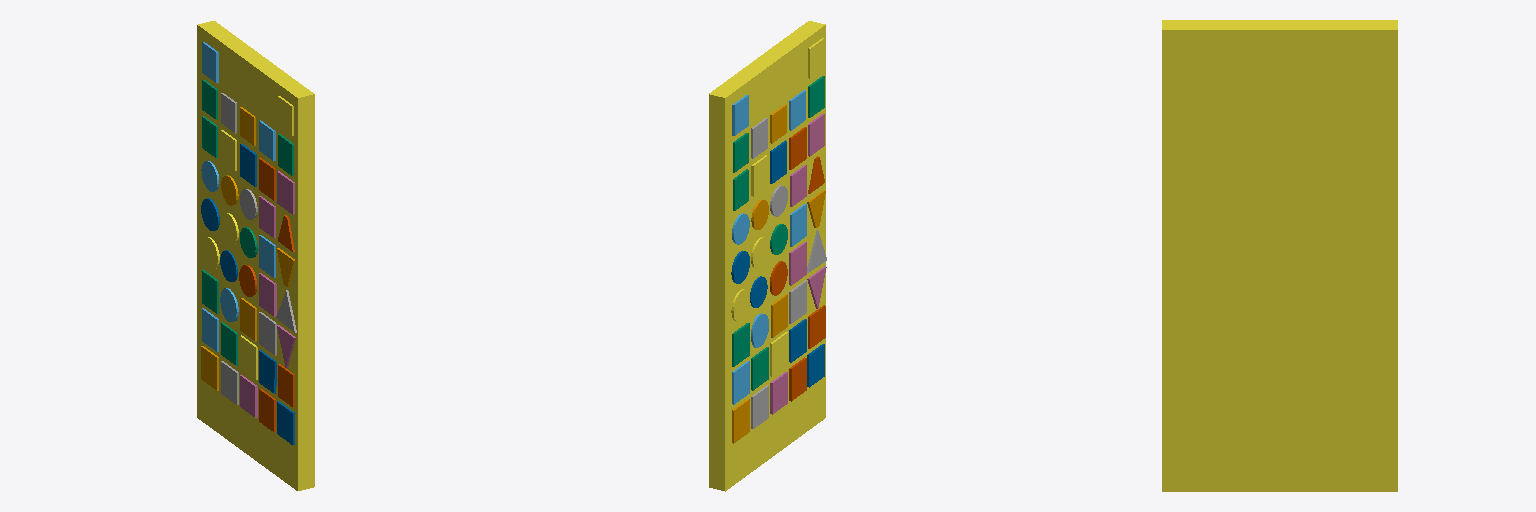
--- Render facts (derived) ---
3 views of the same robot in one strip: view 1: azimuth 30°, elevation 25°; view 2: azimuth 150°, elevation 25°; view 3: azimuth 270°, elevation 25° (orthographic).
Robot: partnet_2c6493d31849c15a75f1efca97bee05a — 44 links, 43 joints (42 prismatic, 1 fixed); root link base; default pose: all joints at 0.
Visible links, largest first — view 1: link_42, link_7, link_10, link_21, link_6, link_3, link_14, link_37, link_11, link_5, link_17, link_4 (+12 smaller); view 2: link_42, link_10, link_7, link_17, link_4, link_21, link_11, link_6, link_8, link_12, link_3, link_9 (+14 smaller); view 3: link_42.
Link boxes in pixels (bbox=[...]): link_42: bbox=[197, 21, 314, 490]; link_7: bbox=[201, 346, 218, 390]; link_10: bbox=[240, 335, 257, 379]; link_21: bbox=[259, 273, 276, 316]; link_6: bbox=[221, 361, 238, 404]; link_3: bbox=[277, 401, 294, 444]; link_14: bbox=[259, 312, 276, 355]; link_37: bbox=[277, 171, 294, 214]; link_11: bbox=[259, 350, 276, 393]; link_5: bbox=[240, 375, 257, 417]; link_17: bbox=[202, 270, 218, 313]; link_4: bbox=[259, 389, 275, 432]; link_42: bbox=[709, 21, 825, 491]; link_10: bbox=[770, 332, 787, 376]; link_7: bbox=[732, 399, 749, 443]; link_17: bbox=[732, 323, 749, 366]; link_4: bbox=[789, 357, 806, 401]; link_21: bbox=[789, 242, 806, 285]; link_11: bbox=[789, 319, 806, 362]; link_6: bbox=[751, 385, 768, 428]; link_8: bbox=[732, 361, 749, 404]; link_12: bbox=[808, 305, 825, 348]; link_3: bbox=[807, 344, 824, 387]; link_9: bbox=[751, 347, 768, 390]; link_42: bbox=[1162, 20, 1397, 491].
Bounding box of the posed robot: 0.0924 × 0.8421 × 1.82 m (x, y, z).
88 mesh visuals loaded from 88 distinct referenced files (88 OBJ).

The robot description file, URDF, robot "partnet_2c6493d31849c15a75f1efca97bee05a":
<?xml version="1.0" ?>
<robot name="partnet_2c6493d31849c15a75f1efca97bee05a">
	<link name="base"/>
	<link name="link_0">
		<visual name="button-1">
			<origin xyz="-0.050816255718397985 -0.2735397896986227 -0.04700700000000024"/>
			<geometry>
				<mesh filename="textured_objs/original-21.obj"/>
			</geometry>
		</visual>
		<visual name="button-1">
			<origin xyz="-0.050816255718397985 -0.2735397896986227 -0.04700700000000024"/>
			<geometry>
				<mesh filename="textured_objs/original-63.obj"/>
			</geometry>
		</visual>
		<collision>
			<origin xyz="-0.050816255718397985 -0.2735397896986227 -0.04700700000000024"/>
			<geometry>
				<mesh filename="textured_objs/original-21.obj"/>
			</geometry>
		</collision>
		<collision>
			<origin xyz="-0.050816255718397985 -0.2735397896986227 -0.04700700000000024"/>
			<geometry>
				<mesh filename="textured_objs/original-63.obj"/>
			</geometry>
		</collision>
	</link>
	<joint name="joint_0" type="prismatic">
		<origin xyz="0.050816255718397985 0.2735397896986227 0.04700700000000024"/>
		<axis xyz="0 0 -1"/>
		<child link="link_0"/>
		<parent link="link_42"/>
		<limit lower="0" upper="0.005"/>
	</joint>
	<link name="link_1">
		<visual name="button-2">
			<origin xyz="-0.050816255718397985 -0.2735397896986227 -0.04700700000000024"/>
			<geometry>
				<mesh filename="textured_objs/original-30.obj"/>
			</geometry>
		</visual>
		<visual name="button-2">
			<origin xyz="-0.050816255718397985 -0.2735397896986227 -0.04700700000000024"/>
			<geometry>
				<mesh filename="textured_objs/original-72.obj"/>
			</geometry>
		</visual>
		<collision>
			<origin xyz="-0.050816255718397985 -0.2735397896986227 -0.04700700000000024"/>
			<geometry>
				<mesh filename="textured_objs/original-30.obj"/>
			</geometry>
		</collision>
		<collision>
			<origin xyz="-0.050816255718397985 -0.2735397896986227 -0.04700700000000024"/>
			<geometry>
				<mesh filename="textured_objs/original-72.obj"/>
			</geometry>
		</collision>
	</link>
	<joint name="joint_1" type="prismatic">
		<origin xyz="0.050816255718397985 0.2735397896986227 0.04700700000000024"/>
		<axis xyz="0 0 -1"/>
		<child link="link_1"/>
		<parent link="link_42"/>
		<limit lower="0" upper="0.005"/>
	</joint>
	<link name="link_2">
		<visual name="button-3">
			<origin xyz="-0.050816255718397985 -0.2735397896986227 -0.04700700000000024"/>
			<geometry>
				<mesh filename="textured_objs/original-15.obj"/>
			</geometry>
		</visual>
		<visual name="button-3">
			<origin xyz="-0.050816255718397985 -0.2735397896986227 -0.04700700000000024"/>
			<geometry>
				<mesh filename="textured_objs/original-57.obj"/>
			</geometry>
		</visual>
		<collision>
			<origin xyz="-0.050816255718397985 -0.2735397896986227 -0.04700700000000024"/>
			<geometry>
				<mesh filename="textured_objs/original-15.obj"/>
			</geometry>
		</collision>
		<collision>
			<origin xyz="-0.050816255718397985 -0.2735397896986227 -0.04700700000000024"/>
			<geometry>
				<mesh filename="textured_objs/original-57.obj"/>
			</geometry>
		</collision>
	</link>
	<joint name="joint_2" type="prismatic">
		<origin xyz="0.050816255718397985 0.2735397896986227 0.04700700000000024"/>
		<axis xyz="0 0 -1"/>
		<child link="link_2"/>
		<parent link="link_42"/>
		<limit lower="0" upper="0.005"/>
	</joint>
	<link name="link_3">
		<visual name="button-4">
			<origin xyz="-0.050816255718397985 -0.2735397896986227 -0.04700700000000024"/>
			<geometry>
				<mesh filename="textured_objs/original-33.obj"/>
			</geometry>
		</visual>
		<visual name="button-4">
			<origin xyz="-0.050816255718397985 -0.2735397896986227 -0.04700700000000024"/>
			<geometry>
				<mesh filename="textured_objs/original-75.obj"/>
			</geometry>
		</visual>
		<collision>
			<origin xyz="-0.050816255718397985 -0.2735397896986227 -0.04700700000000024"/>
			<geometry>
				<mesh filename="textured_objs/original-33.obj"/>
			</geometry>
		</collision>
		<collision>
			<origin xyz="-0.050816255718397985 -0.2735397896986227 -0.04700700000000024"/>
			<geometry>
				<mesh filename="textured_objs/original-75.obj"/>
			</geometry>
		</collision>
	</link>
	<joint name="joint_3" type="prismatic">
		<origin xyz="0.050816255718397985 0.2735397896986227 0.04700700000000024"/>
		<axis xyz="0 0 -1"/>
		<child link="link_3"/>
		<parent link="link_42"/>
		<limit lower="0" upper="0.005"/>
	</joint>
	<link name="link_4">
		<visual name="button-5">
			<origin xyz="-0.050816255718397985 -0.2735397896986227 -0.04700700000000024"/>
			<geometry>
				<mesh filename="textured_objs/original-34.obj"/>
			</geometry>
		</visual>
		<visual name="button-5">
			<origin xyz="-0.050816255718397985 -0.2735397896986227 -0.04700700000000024"/>
			<geometry>
				<mesh filename="textured_objs/original-76.obj"/>
			</geometry>
		</visual>
		<collision>
			<origin xyz="-0.050816255718397985 -0.2735397896986227 -0.04700700000000024"/>
			<geometry>
				<mesh filename="textured_objs/original-34.obj"/>
			</geometry>
		</collision>
		<collision>
			<origin xyz="-0.050816255718397985 -0.2735397896986227 -0.04700700000000024"/>
			<geometry>
				<mesh filename="textured_objs/original-76.obj"/>
			</geometry>
		</collision>
	</link>
	<joint name="joint_4" type="prismatic">
		<origin xyz="0.050816255718397985 0.2735397896986227 0.04700700000000024"/>
		<axis xyz="0 0 -1"/>
		<child link="link_4"/>
		<parent link="link_42"/>
		<limit lower="0" upper="0.005"/>
	</joint>
	<link name="link_5">
		<visual name="button-6">
			<origin xyz="-0.050816255718397985 -0.2735397896986227 -0.04700700000000024"/>
			<geometry>
				<mesh filename="textured_objs/original-42.obj"/>
			</geometry>
		</visual>
		<visual name="button-6">
			<origin xyz="-0.050816255718397985 -0.2735397896986227 -0.04700700000000024"/>
			<geometry>
				<mesh filename="textured_objs/original-83.obj"/>
			</geometry>
		</visual>
		<collision>
			<origin xyz="-0.050816255718397985 -0.2735397896986227 -0.04700700000000024"/>
			<geometry>
				<mesh filename="textured_objs/original-42.obj"/>
			</geometry>
		</collision>
		<collision>
			<origin xyz="-0.050816255718397985 -0.2735397896986227 -0.04700700000000024"/>
			<geometry>
				<mesh filename="textured_objs/original-83.obj"/>
			</geometry>
		</collision>
	</link>
	<joint name="joint_5" type="prismatic">
		<origin xyz="0.050816255718397985 0.2735397896986227 0.04700700000000024"/>
		<axis xyz="0 0 -1"/>
		<child link="link_5"/>
		<parent link="link_42"/>
		<limit lower="0" upper="0.005"/>
	</joint>
	<link name="link_6">
		<visual name="button-7">
			<origin xyz="-0.050816255718397985 -0.2735397896986227 -0.04700700000000024"/>
			<geometry>
				<mesh filename="textured_objs/original-39.obj"/>
			</geometry>
		</visual>
		<visual name="button-7">
			<origin xyz="-0.050816255718397985 -0.2735397896986227 -0.04700700000000024"/>
			<geometry>
				<mesh filename="textured_objs/original-80.obj"/>
			</geometry>
		</visual>
		<collision>
			<origin xyz="-0.050816255718397985 -0.2735397896986227 -0.04700700000000024"/>
			<geometry>
				<mesh filename="textured_objs/original-39.obj"/>
			</geometry>
		</collision>
		<collision>
			<origin xyz="-0.050816255718397985 -0.2735397896986227 -0.04700700000000024"/>
			<geometry>
				<mesh filename="textured_objs/original-80.obj"/>
			</geometry>
		</collision>
	</link>
	<joint name="joint_6" type="prismatic">
		<origin xyz="0.050816255718397985 0.2735397896986227 0.04700700000000024"/>
		<axis xyz="0 0 -1"/>
		<child link="link_6"/>
		<parent link="link_42"/>
		<limit lower="0" upper="0.005"/>
	</joint>
	<link name="link_7">
		<visual name="button-8">
			<origin xyz="-0.050816255718397985 -0.2735397896986227 -0.04700700000000024"/>
			<geometry>
				<mesh filename="textured_objs/original-29.obj"/>
			</geometry>
		</visual>
		<visual name="button-8">
			<origin xyz="-0.050816255718397985 -0.2735397896986227 -0.04700700000000024"/>
			<geometry>
				<mesh filename="textured_objs/original-71.obj"/>
			</geometry>
		</visual>
		<collision>
			<origin xyz="-0.050816255718397985 -0.2735397896986227 -0.04700700000000024"/>
			<geometry>
				<mesh filename="textured_objs/original-29.obj"/>
			</geometry>
		</collision>
		<collision>
			<origin xyz="-0.050816255718397985 -0.2735397896986227 -0.04700700000000024"/>
			<geometry>
				<mesh filename="textured_objs/original-71.obj"/>
			</geometry>
		</collision>
	</link>
	<joint name="joint_7" type="prismatic">
		<origin xyz="0.050816255718397985 0.2735397896986227 0.04700700000000024"/>
		<axis xyz="0 0 -1"/>
		<child link="link_7"/>
		<parent link="link_42"/>
		<limit lower="0" upper="0.005"/>
	</joint>
	<link name="link_8">
		<visual name="button-9">
			<origin xyz="-0.050816255718397985 -0.2735397896986227 -0.04700700000000024"/>
			<geometry>
				<mesh filename="textured_objs/original-40.obj"/>
			</geometry>
		</visual>
		<visual name="button-9">
			<origin xyz="-0.050816255718397985 -0.2735397896986227 -0.04700700000000024"/>
			<geometry>
				<mesh filename="textured_objs/original-81.obj"/>
			</geometry>
		</visual>
		<collision>
			<origin xyz="-0.050816255718397985 -0.2735397896986227 -0.04700700000000024"/>
			<geometry>
				<mesh filename="textured_objs/original-40.obj"/>
			</geometry>
		</collision>
		<collision>
			<origin xyz="-0.050816255718397985 -0.2735397896986227 -0.04700700000000024"/>
			<geometry>
				<mesh filename="textured_objs/original-81.obj"/>
			</geometry>
		</collision>
	</link>
	<joint name="joint_8" type="prismatic">
		<origin xyz="0.050816255718397985 0.2735397896986227 0.04700700000000024"/>
		<axis xyz="0 0 -1"/>
		<child link="link_8"/>
		<parent link="link_42"/>
		<limit lower="0" upper="0.005"/>
	</joint>
	<link name="link_9">
		<visual name="button-10">
			<origin xyz="-0.050816255718397985 -0.2735397896986227 -0.04700700000000024"/>
			<geometry>
				<mesh filename="textured_objs/original-43.obj"/>
			</geometry>
		</visual>
		<visual name="button-10">
			<origin xyz="-0.050816255718397985 -0.2735397896986227 -0.04700700000000024"/>
			<geometry>
				<mesh filename="textured_objs/original-85.obj"/>
			</geometry>
		</visual>
		<collision>
			<origin xyz="-0.050816255718397985 -0.2735397896986227 -0.04700700000000024"/>
			<geometry>
				<mesh filename="textured_objs/original-43.obj"/>
			</geometry>
		</collision>
		<collision>
			<origin xyz="-0.050816255718397985 -0.2735397896986227 -0.04700700000000024"/>
			<geometry>
				<mesh filename="textured_objs/original-85.obj"/>
			</geometry>
		</collision>
	</link>
	<joint name="joint_9" type="prismatic">
		<origin xyz="0.050816255718397985 0.2735397896986227 0.04700700000000024"/>
		<axis xyz="0 0 -1"/>
		<child link="link_9"/>
		<parent link="link_42"/>
		<limit lower="0" upper="0.005"/>
	</joint>
	<link name="link_10">
		<visual name="button-11">
			<origin xyz="-0.050816255718397985 -0.2735397896986227 -0.04700700000000024"/>
			<geometry>
				<mesh filename="textured_objs/original-32.obj"/>
			</geometry>
		</visual>
		<visual name="button-11">
			<origin xyz="-0.050816255718397985 -0.2735397896986227 -0.04700700000000024"/>
			<geometry>
				<mesh filename="textured_objs/original-74.obj"/>
			</geometry>
		</visual>
		<collision>
			<origin xyz="-0.050816255718397985 -0.2735397896986227 -0.04700700000000024"/>
			<geometry>
				<mesh filename="textured_objs/original-32.obj"/>
			</geometry>
		</collision>
		<collision>
			<origin xyz="-0.050816255718397985 -0.2735397896986227 -0.04700700000000024"/>
			<geometry>
				<mesh filename="textured_objs/original-74.obj"/>
			</geometry>
		</collision>
	</link>
	<joint name="joint_10" type="prismatic">
		<origin xyz="0.050816255718397985 0.2735397896986227 0.04700700000000024"/>
		<axis xyz="0 0 -1"/>
		<child link="link_10"/>
		<parent link="link_42"/>
		<limit lower="0" upper="0.005"/>
	</joint>
	<link name="link_11">
		<visual name="button-12">
			<origin xyz="-0.050816255718397985 -0.2735397896986227 -0.04700700000000024"/>
			<geometry>
				<mesh filename="textured_objs/original-38.obj"/>
			</geometry>
		</visual>
		<visual name="button-12">
			<origin xyz="-0.050816255718397985 -0.2735397896986227 -0.04700700000000024"/>
			<geometry>
				<mesh filename="textured_objs/original-79.obj"/>
			</geometry>
		</visual>
		<collision>
			<origin xyz="-0.050816255718397985 -0.2735397896986227 -0.04700700000000024"/>
			<geometry>
				<mesh filename="textured_objs/original-38.obj"/>
			</geometry>
		</collision>
		<collision>
			<origin xyz="-0.050816255718397985 -0.2735397896986227 -0.04700700000000024"/>
			<geometry>
				<mesh filename="textured_objs/original-79.obj"/>
			</geometry>
		</collision>
	</link>
	<joint name="joint_11" type="prismatic">
		<origin xyz="0.050816255718397985 0.2735397896986227 0.04700700000000024"/>
		<axis xyz="0 0 -1"/>
		<child link="link_11"/>
		<parent link="link_42"/>
		<limit lower="0" upper="0.005"/>
	</joint>
	<link name="link_12">
		<visual name="button-13">
			<origin xyz="-0.050816255718397985 -0.2735397896986227 -0.04700700000000024"/>
			<geometry>
				<mesh filename="textured_objs/original-25.obj"/>
			</geometry>
		</visual>
		<visual name="button-13">
			<origin xyz="-0.050816255718397985 -0.2735397896986227 -0.04700700000000024"/>
			<geometry>
				<mesh filename="textured_objs/original-67.obj"/>
			</geometry>
		</visual>
		<collision>
			<origin xyz="-0.050816255718397985 -0.2735397896986227 -0.04700700000000024"/>
			<geometry>
				<mesh filename="textured_objs/original-25.obj"/>
			</geometry>
		</collision>
		<collision>
			<origin xyz="-0.050816255718397985 -0.2735397896986227 -0.04700700000000024"/>
			<geometry>
				<mesh filename="textured_objs/original-67.obj"/>
			</geometry>
		</collision>
	</link>
	<joint name="joint_12" type="prismatic">
		<origin xyz="0.050816255718397985 0.2735397896986227 0.04700700000000024"/>
		<axis xyz="0 0 -1"/>
		<child link="link_12"/>
		<parent link="link_42"/>
		<limit lower="0" upper="0.005"/>
	</joint>
	<link name="link_13">
		<visual name="button-14">
			<origin xyz="-0.050816255718397985 -0.2735397896986227 -0.04700700000000024"/>
			<geometry>
				<mesh filename="textured_objs/original-24.obj"/>
			</geometry>
		</visual>
		<visual name="button-14">
			<origin xyz="-0.050816255718397985 -0.2735397896986227 -0.04700700000000024"/>
			<geometry>
				<mesh filename="textured_objs/original-66.obj"/>
			</geometry>
		</visual>
		<collision>
			<origin xyz="-0.050816255718397985 -0.2735397896986227 -0.04700700000000024"/>
			<geometry>
				<mesh filename="textured_objs/original-24.obj"/>
			</geometry>
		</collision>
		<collision>
			<origin xyz="-0.050816255718397985 -0.2735397896986227 -0.04700700000000024"/>
			<geometry>
				<mesh filename="textured_objs/original-66.obj"/>
			</geometry>
		</collision>
	</link>
	<joint name="joint_13" type="prismatic">
		<origin xyz="0.050816255718397985 0.2735397896986227 0.04700700000000024"/>
		<axis xyz="0 0 -1"/>
		<child link="link_13"/>
		<parent link="link_42"/>
		<limit lower="0" upper="0.005"/>
	</joint>
	<link name="link_14">
		<visual name="button-15">
			<origin xyz="-0.050816255718397985 -0.2735397896986227 -0.04700700000000024"/>
			<geometry>
				<mesh filename="textured_objs/original-28.obj"/>
			</geometry>
		</visual>
		<visual name="button-15">
			<origin xyz="-0.050816255718397985 -0.2735397896986227 -0.04700700000000024"/>
			<geometry>
				<mesh filename="textured_objs/original-70.obj"/>
			</geometry>
		</visual>
		<collision>
			<origin xyz="-0.050816255718397985 -0.2735397896986227 -0.04700700000000024"/>
			<geometry>
				<mesh filename="textured_objs/original-28.obj"/>
			</geometry>
		</collision>
		<collision>
			<origin xyz="-0.050816255718397985 -0.2735397896986227 -0.04700700000000024"/>
			<geometry>
				<mesh filename="textured_objs/original-70.obj"/>
			</geometry>
		</collision>
	</link>
	<joint name="joint_14" type="prismatic">
		<origin xyz="0.050816255718397985 0.2735397896986227 0.04700700000000024"/>
		<axis xyz="0 0 -1"/>
		<child link="link_14"/>
		<parent link="link_42"/>
		<limit lower="0" upper="0.005"/>
	</joint>
	<link name="link_15">
		<visual name="button-16">
			<origin xyz="-0.050816255718397985 -0.2735397896986227 -0.04700700000000024"/>
			<geometry>
				<mesh filename="textured_objs/original-23.obj"/>
			</geometry>
		</visual>
		<visual name="button-16">
			<origin xyz="-0.050816255718397985 -0.2735397896986227 -0.04700700000000024"/>
			<geometry>
				<mesh filename="textured_objs/original-65.obj"/>
			</geometry>
		</visual>
		<collision>
			<origin xyz="-0.050816255718397985 -0.2735397896986227 -0.04700700000000024"/>
			<geometry>
				<mesh filename="textured_objs/original-23.obj"/>
			</geometry>
		</collision>
		<collision>
			<origin xyz="-0.050816255718397985 -0.2735397896986227 -0.04700700000000024"/>
			<geometry>
				<mesh filename="textured_objs/original-65.obj"/>
			</geometry>
		</collision>
	</link>
	<joint name="joint_15" type="prismatic">
		<origin xyz="0.050816255718397985 0.2735397896986227 0.04700700000000024"/>
		<axis xyz="0 0 -1"/>
		<child link="link_15"/>
		<parent link="link_42"/>
		<limit lower="0" upper="0.005"/>
	</joint>
	<link name="link_16">
		<visual name="button-17">
			<origin xyz="-0.050816255718397985 -0.2735397896986227 -0.04700700000000024"/>
			<geometry>
				<mesh filename="textured_objs/original-37.obj"/>
			</geometry>
		</visual>
		<visual name="button-17">
			<origin xyz="-0.050816255718397985 -0.2735397896986227 -0.04700700000000024"/>
			<geometry>
				<mesh filename="textured_objs/original-84.obj"/>
			</geometry>
		</visual>
		<visual name="button-17">
			<origin xyz="-0.050816255718397985 -0.2735397896986227 -0.04700700000000024"/>
			<geometry>
				<mesh filename="textured_objs/original-88.obj"/>
			</geometry>
		</visual>
		<collision>
			<origin xyz="-0.050816255718397985 -0.2735397896986227 -0.04700700000000024"/>
			<geometry>
				<mesh filename="textured_objs/original-37.obj"/>
			</geometry>
		</collision>
		<collision>
			<origin xyz="-0.050816255718397985 -0.2735397896986227 -0.04700700000000024"/>
			<geometry>
				<mesh filename="textured_objs/original-84.obj"/>
			</geometry>
		</collision>
		<collision>
			<origin xyz="-0.050816255718397985 -0.2735397896986227 -0.04700700000000024"/>
			<geometry>
				<mesh filename="textured_objs/original-88.obj"/>
			</geometry>
		</collision>
	</link>
	<joint name="joint_16" type="prismatic">
		<origin xyz="0.050816255718397985 0.2735397896986227 0.04700700000000024"/>
		<axis xyz="0 0 -1"/>
		<child link="link_16"/>
		<parent link="link_42"/>
		<limit lower="0" upper="0.005"/>
	</joint>
	<link name="link_17">
		<visual name="button-18">
			<origin xyz="-0.050816255718397985 -0.2735397896986227 -0.04700700000000024"/>
			<geometry>
				<mesh filename="textured_objs/original-36.obj"/>
			</geometry>
		</visual>
		<visual name="button-18">
			<origin xyz="-0.050816255718397985 -0.2735397896986227 -0.04700700000000024"/>
			<geometry>
				<mesh filename="textured_objs/original-78.obj"/>
			</geometry>
		</visual>
		<collision>
			<origin xyz="-0.050816255718397985 -0.2735397896986227 -0.04700700000000024"/>
			<geometry>
				<mesh filename="textured_objs/original-36.obj"/>
			</geometry>
		</collision>
		<collision>
			<origin xyz="-0.050816255718397985 -0.2735397896986227 -0.04700700000000024"/>
			<geometry>
				<mesh filename="textured_objs/original-78.obj"/>
			</geometry>
		</collision>
	</link>
	<joint name="joint_17" type="prismatic">
		<origin xyz="0.050816255718397985 0.2735397896986227 0.04700700000000024"/>
		<axis xyz="0 0 -1"/>
		<child link="link_17"/>
		<parent link="link_42"/>
		<limit lower="0" upper="0.005"/>
	</joint>
	<link name="link_18">
		<visual name="button-19">
			<origin xyz="-0.050816255718397985 -0.2735397896986227 -0.04700700000000024"/>
			<geometry>
				<mesh filename="textured_objs/original-19.obj"/>
			</geometry>
		</visual>
		<visual name="button-19">
			<origin xyz="-0.050816255718397985 -0.2735397896986227 -0.04700700000000024"/>
			<geometry>
				<mesh filename="textured_objs/original-61.obj"/>
			</geometry>
		</visual>
		<collision>
			<origin xyz="-0.050816255718397985 -0.2735397896986227 -0.04700700000000024"/>
			<geometry>
				<mesh filename="textured_objs/original-19.obj"/>
			</geometry>
		</collision>
		<collision>
			<origin xyz="-0.050816255718397985 -0.2735397896986227 -0.04700700000000024"/>
			<geometry>
				<mesh filename="textured_objs/original-61.obj"/>
			</geometry>
		</collision>
	</link>
	<joint name="joint_18" type="prismatic">
		<origin xyz="0.050816255718397985 0.2735397896986227 0.04700700000000024"/>
		<axis xyz="0 0 -1"/>
		<child link="link_18"/>
		<parent link="link_42"/>
		<limit lower="0" upper="0.005"/>
	</joint>
	<link name="link_19">
		<visual name="button-20">
			<origin xyz="-0.050816255718397985 -0.2735397896986227 -0.04700700000000024"/>
			<geometry>
				<mesh filename="textured_objs/original-27.obj"/>
			</geometry>
		</visual>
		<visual name="button-20">
			<origin xyz="-0.050816255718397985 -0.2735397896986227 -0.04700700000000024"/>
			<geometry>
				<mesh filename="textured_objs/original-69.obj"/>
			</geometry>
		</visual>
		<collision>
			<origin xyz="-0.050816255718397985 -0.2735397896986227 -0.04700700000000024"/>
			<geometry>
				<mesh filename="textured_objs/original-27.obj"/>
			</geometry>
		</collision>
		<collision>
			<origin xyz="-0.050816255718397985 -0.2735397896986227 -0.04700700000000024"/>
			<geometry>
				<mesh filename="textured_objs/original-69.obj"/>
			</geometry>
		</collision>
	</link>
	<joint name="joint_19" type="prismatic">
		<origin xyz="0.050816255718397985 0.2735397896986227 0.04700700000000024"/>
		<axis xyz="0 0 -1"/>
		<child link="link_19"/>
		<parent link="link_42"/>
		<limit lower="0" upper="0.005"/>
	</joint>
	<link name="link_20">
		<visual name="button-21">
			<origin xyz="-0.050816255718397985 -0.2735397896986227 -0.04700700000000024"/>
			<geometry>
				<mesh filename="textured_objs/original-20.obj"/>
			</geometry>
		</visual>
		<visual name="button-21">
			<origin xyz="-0.050816255718397985 -0.2735397896986227 -0.04700700000000024"/>
			<geometry>
				<mesh filename="textured_objs/original-62.obj"/>
			</geometry>
		</visual>
		<collision>
			<origin xyz="-0.050816255718397985 -0.2735397896986227 -0.04700700000000024"/>
			<geometry>
				<mesh filename="textured_objs/original-20.obj"/>
			</geometry>
		</collision>
		<collision>
			<origin xyz="-0.050816255718397985 -0.2735397896986227 -0.04700700000000024"/>
			<geometry>
				<mesh filename="textured_objs/original-62.obj"/>
			</geometry>
		</collision>
	</link>
	<joint name="joint_20" type="prismatic">
		<origin xyz="0.050816255718397985 0.2735397896986227 0.04700700000000024"/>
		<axis xyz="0 0 -1"/>
		<child link="link_20"/>
		<parent link="link_42"/>
		<limit lower="0" upper="0.005"/>
	</joint>
	<link name="link_21">
		<visual name="button-22">
			<origin xyz="-0.050816255718397985 -0.2735397896986227 -0.04700700000000024"/>
			<geometry>
				<mesh filename="textured_objs/original-18.obj"/>
			</geometry>
		</visual>
		<visual name="button-22">
			<origin xyz="-0.050816255718397985 -0.2735397896986227 -0.04700700000000024"/>
			<geometry>
				<mesh filename="textured_objs/original-60.obj"/>
			</geometry>
		</visual>
		<collision>
			<origin xyz="-0.050816255718397985 -0.2735397896986227 -0.04700700000000024"/>
			<geometry>
				<mesh filename="textured_objs/original-18.obj"/>
			</geometry>
		</collision>
		<collision>
			<origin xyz="-0.050816255718397985 -0.2735397896986227 -0.04700700000000024"/>
			<geometry>
				<mesh filename="textured_objs/original-60.obj"/>
			</geometry>
		</collision>
	</link>
	<joint name="joint_21" type="prismatic">
		<origin xyz="0.050816255718397985 0.2735397896986227 0.04700700000000024"/>
		<axis xyz="0 0 -1"/>
		<child link="link_21"/>
		<parent link="link_42"/>
		<limit lower="0" upper="0.005"/>
	</joint>
	<link name="link_22">
		<visual name="button-23">
			<origin xyz="-0.050816255718397985 -0.2735397896986227 -0.04700700000000024"/>
			<geometry>
				<mesh filename="textured_objs/original-12.obj"/>
			</geometry>
		</visual>
		<visual name="button-23">
			<origin xyz="-0.050816255718397985 -0.2735397896986227 -0.04700700000000024"/>
			<geometry>
				<mesh filename="textured_objs/original-54.obj"/>
			</geometry>
		</visual>
		<collision>
			<origin xyz="-0.050816255718397985 -0.2735397896986227 -0.04700700000000024"/>
			<geometry>
				<mesh filename="textured_objs/original-12.obj"/>
			</geometry>
		</collision>
		<collision>
			<origin xyz="-0.050816255718397985 -0.2735397896986227 -0.04700700000000024"/>
			<geometry>
				<mesh filename="textured_objs/original-54.obj"/>
			</geometry>
		</collision>
	</link>
	<joint name="joint_22" type="prismatic">
		<origin xyz="0.050816255718397985 0.2735397896986227 0.04700700000000024"/>
		<axis xyz="0 0 -1"/>
		<child link="link_22"/>
		<parent link="link_42"/>
		<limit lower="0" upper="0.005"/>
	</joint>
	<link name="link_23">
		<visual name="button-24">
			<origin xyz="-0.050816255718397985 -0.2735397896986227 -0.04700700000000024"/>
			<geometry>
				<mesh filename="textured_objs/original-7.obj"/>
			</geometry>
		</visual>
		<visual name="button-24">
			<origin xyz="-0.050816255718397985 -0.2735397896986227 -0.04700700000000024"/>
			<geometry>
				<mesh filename="textured_objs/original-49.obj"/>
			</geometry>
		</visual>
		<collision>
			<origin xyz="-0.050816255718397985 -0.2735397896986227 -0.04700700000000024"/>
			<geometry>
				<mesh filename="textured_objs/original-7.obj"/>
			</geometry>
		</collision>
		<collision>
			<origin xyz="-0.050816255718397985 -0.2735397896986227 -0.04700700000000024"/>
			<geometry>
				<mesh filename="textured_objs/original-49.obj"/>
			</geometry>
		</collision>
	</link>
	<joint name="joint_23" type="prismatic">
		<origin xyz="0.050816255718397985 0.2735397896986227 0.04700700000000024"/>
		<axis xyz="0 0 -1"/>
		<child link="link_23"/>
		<parent link="link_42"/>
		<limit lower="0" upper="0.005"/>
	</joint>
	<link name="link_24">
		<visual name="button-25">
			<origin xyz="-0.050816255718397985 -0.2735397896986227 -0.04700700000000024"/>
			<geometry>
				<mesh filename="textured_objs/original-6.obj"/>
			</geometry>
		</visual>
		<visual name="button-25">
			<origin xyz="-0.050816255718397985 -0.2735397896986227 -0.04700700000000024"/>
			<geometry>
				<mesh filename="textured_objs/original-48.obj"/>
			</geometry>
		</visual>
		<collision>
			<origin xyz="-0.050816255718397985 -0.2735397896986227 -0.04700700000000024"/>
			<geometry>
				<mesh filename="textured_objs/original-6.obj"/>
			</geometry>
		</collision>
		<collision>
			<origin xyz="-0.050816255718397985 -0.2735397896986227 -0.04700700000000024"/>
			<geometry>
				<mesh filename="textured_objs/original-48.obj"/>
			</geometry>
		</collision>
	</link>
	<joint name="joint_24" type="prismatic">
		<origin xyz="0.050816255718397985 0.2735397896986227 0.04700700000000024"/>
		<axis xyz="0 0 -1"/>
		<child link="link_24"/>
		<parent link="link_42"/>
		<limit lower="0" upper="0.005"/>
	</joint>
	<link name="link_25">
		<visual name="button-26">
			<origin xyz="-0.050816255718397985 -0.2735397896986227 -0.04700700000000024"/>
			<geometry>
				<mesh filename="textured_objs/original-3.obj"/>
			</geometry>
		</visual>
		<visual name="button-26">
			<origin xyz="-0.050816255718397985 -0.2735397896986227 -0.04700700000000024"/>
			<geometry>
				<mesh filename="textured_objs/original-45.obj"/>
			</geometry>
		</visual>
		<collision>
			<origin xyz="-0.050816255718397985 -0.2735397896986227 -0.04700700000000024"/>
			<geometry>
				<mesh filename="textured_objs/original-3.obj"/>
			</geometry>
		</collision>
		<collision>
			<origin xyz="-0.050816255718397985 -0.2735397896986227 -0.04700700000000024"/>
			<geometry>
				<mesh filename="textured_objs/original-45.obj"/>
			</geometry>
		</collision>
	</link>
	<joint name="joint_25" type="prismatic">
		<origin xyz="0.050816255718397985 0.2735397896986227 0.04700700000000024"/>
		<axis xyz="0 0 -1"/>
		<child link="link_25"/>
		<parent link="link_42"/>
		<limit lower="0" upper="0.005"/>
	</joint>
	<link name="link_26">
		<visual name="button-27">
			<origin xyz="-0.050816255718397985 -0.2735397896986227 -0.04700700000000024"/>
			<geometry>
				<mesh filename="textured_objs/original-2.obj"/>
			</geometry>
		</visual>
		<visual name="button-27">
			<origin xyz="-0.050816255718397985 -0.2735397896986227 -0.04700700000000024"/>
			<geometry>
				<mesh filename="textured_objs/original-44.obj"/>
			</geometry>
		</visual>
		<collision>
			<origin xyz="-0.050816255718397985 -0.2735397896986227 -0.04700700000000024"/>
			<geometry>
				<mesh filename="textured_objs/original-2.obj"/>
			</geometry>
		</collision>
		<collision>
			<origin xyz="-0.050816255718397985 -0.2735397896986227 -0.04700700000000024"/>
			<geometry>
				<mesh filename="textured_objs/original-44.obj"/>
			</geometry>
		</collision>
	</link>
	<joint name="joint_26" type="prismatic">
		<origin xyz="0.050816255718397985 0.2735397896986227 0.04700700000000024"/>
		<axis xyz="0 0 -1"/>
		<child link="link_26"/>
		<parent link="link_42"/>
		<limit lower="0" upper="0.005"/>
	</joint>
	<link name="link_27">
		<visual name="button-28">
			<origin xyz="-0.050816255718397985 -0.2735397896986227 -0.04700700000000024"/>
			<geometry>
				<mesh filename="textured_objs/original-4.obj"/>
			</geometry>
		</visual>
		<visual name="button-28">
			<origin xyz="-0.050816255718397985 -0.2735397896986227 -0.04700700000000024"/>
			<geometry>
				<mesh filename="textured_objs/original-46.obj"/>
			</geometry>
		</visual>
		<collision>
			<origin xyz="-0.050816255718397985 -0.2735397896986227 -0.04700700000000024"/>
			<geometry>
				<mesh filename="textured_objs/original-4.obj"/>
			</geometry>
		</collision>
		<collision>
			<origin xyz="-0.050816255718397985 -0.2735397896986227 -0.04700700000000024"/>
			<geometry>
				<mesh filename="textured_objs/original-46.obj"/>
			</geometry>
		</collision>
	</link>
	<joint name="joint_27" type="prismatic">
		<origin xyz="0.050816255718397985 0.2735397896986227 0.04700700000000024"/>
		<axis xyz="0 0 -1"/>
		<child link="link_27"/>
		<parent link="link_42"/>
		<limit lower="0" upper="0.005"/>
	</joint>
	<link name="link_28">
		<visual name="button-29">
			<origin xyz="-0.050816255718397985 -0.2735397896986227 -0.04700700000000024"/>
			<geometry>
				<mesh filename="textured_objs/original-10.obj"/>
			</geometry>
		</visual>
		<visual name="button-29">
			<origin xyz="-0.050816255718397985 -0.2735397896986227 -0.04700700000000024"/>
			<geometry>
				<mesh filename="textured_objs/original-52.obj"/>
			</geometry>
		</visual>
		<collision>
			<origin xyz="-0.050816255718397985 -0.2735397896986227 -0.04700700000000024"/>
			<geometry>
				<mesh filename="textured_objs/original-10.obj"/>
			</geometry>
		</collision>
		<collision>
			<origin xyz="-0.050816255718397985 -0.2735397896986227 -0.04700700000000024"/>
			<geometry>
				<mesh filename="textured_objs/original-52.obj"/>
			</geometry>
		</collision>
	</link>
	<joint name="joint_28" type="prismatic">
		<origin xyz="0.050816255718397985 0.2735397896986227 0.04700700000000024"/>
		<axis xyz="0 0 -1"/>
		<child link="link_28"/>
		<parent link="link_42"/>
		<limit lower="0" upper="0.005"/>
	</joint>
	<link name="link_29">
		<visual name="button-30">
			<origin xyz="-0.050816255718397985 -0.2735397896986227 -0.04700700000000024"/>
			<geometry>
				<mesh filename="textured_objs/original-5.obj"/>
			</geometry>
		</visual>
		<visual name="button-30">
			<origin xyz="-0.050816255718397985 -0.2735397896986227 -0.04700700000000024"/>
			<geometry>
				<mesh filename="textured_objs/original-47.obj"/>
			</geometry>
		</visual>
		<collision>
			<origin xyz="-0.050816255718397985 -0.2735397896986227 -0.04700700000000024"/>
			<geometry>
				<mesh filename="textured_objs/original-5.obj"/>
			</geometry>
		</collision>
		<collision>
			<origin xyz="-0.050816255718397985 -0.2735397896986227 -0.04700700000000024"/>
			<geometry>
				<mesh filename="textured_objs/original-47.obj"/>
			</geometry>
		</collision>
	</link>
	<joint name="joint_29" type="prismatic">
		<origin xyz="0.050816255718397985 0.2735397896986227 0.04700700000000024"/>
		<axis xyz="0 0 -1"/>
		<child link="link_29"/>
		<parent link="link_42"/>
		<limit lower="0" upper="0.005"/>
	</joint>
	<link name="link_30">
		<visual name="button-31">
			<origin xyz="-0.050816255718397985 -0.2735397896986227 -0.04700700000000024"/>
			<geometry>
				<mesh filename="textured_objs/original-8.obj"/>
			</geometry>
		</visual>
		<visual name="button-31">
			<origin xyz="-0.050816255718397985 -0.2735397896986227 -0.04700700000000024"/>
			<geometry>
				<mesh filename="textured_objs/original-50.obj"/>
			</geometry>
		</visual>
		<collision>
			<origin xyz="-0.050816255718397985 -0.2735397896986227 -0.04700700000000024"/>
			<geometry>
				<mesh filename="textured_objs/original-8.obj"/>
			</geometry>
		</collision>
		<collision>
			<origin xyz="-0.050816255718397985 -0.2735397896986227 -0.04700700000000024"/>
			<geometry>
				<mesh filename="textured_objs/original-50.obj"/>
			</geometry>
		</collision>
	</link>
	<joint name="joint_30" type="prismatic">
		<origin xyz="0.050816255718397985 0.2735397896986227 0.04700700000000024"/>
		<axis xyz="0 0 -1"/>
		<child link="link_30"/>
		<parent link="link_42"/>
		<limit lower="0" upper="0.005"/>
	</joint>
	<link name="link_31">
		<visual name="button-32">
			<origin xyz="-0.050816255718397985 -0.2735397896986227 -0.04700700000000024"/>
			<geometry>
				<mesh filename="textured_objs/original-13.obj"/>
			</geometry>
		</visual>
		<visual name="button-32">
			<origin xyz="-0.050816255718397985 -0.2735397896986227 -0.04700700000000024"/>
			<geometry>
				<mesh filename="textured_objs/original-55.obj"/>
			</geometry>
		</visual>
		<collision>
			<origin xyz="-0.050816255718397985 -0.2735397896986227 -0.04700700000000024"/>
			<geometry>
				<mesh filename="textured_objs/original-13.obj"/>
			</geometry>
		</collision>
		<collision>
			<origin xyz="-0.050816255718397985 -0.2735397896986227 -0.04700700000000024"/>
			<geometry>
				<mesh filename="textured_objs/original-55.obj"/>
			</geometry>
		</collision>
	</link>
	<joint name="joint_31" type="prismatic">
		<origin xyz="0.050816255718397985 0.2735397896986227 0.04700700000000024"/>
		<axis xyz="0 0 -1"/>
		<child link="link_31"/>
		<parent link="link_42"/>
		<limit lower="0" upper="0.005"/>
	</joint>
	<link name="link_32">
		<visual name="button-33">
			<origin xyz="-0.050816255718397985 -0.2735397896986227 -0.04700700000000024"/>
			<geometry>
				<mesh filename="textured_objs/original-9.obj"/>
			</geometry>
		</visual>
		<visual name="button-33">
			<origin xyz="-0.050816255718397985 -0.2735397896986227 -0.04700700000000024"/>
			<geometry>
				<mesh filename="textured_objs/original-51.obj"/>
			</geometry>
		</visual>
		<collision>
			<origin xyz="-0.050816255718397985 -0.2735397896986227 -0.04700700000000024"/>
			<geometry>
				<mesh filename="textured_objs/original-9.obj"/>
			</geometry>
		</collision>
		<collision>
			<origin xyz="-0.050816255718397985 -0.2735397896986227 -0.04700700000000024"/>
			<geometry>
				<mesh filename="textured_objs/original-51.obj"/>
			</geometry>
		</collision>
	</link>
	<joint name="joint_32" type="prismatic">
		<origin xyz="0.050816255718397985 0.2735397896986227 0.04700700000000024"/>
		<axis xyz="0 0 -1"/>
		<child link="link_32"/>
		<parent link="link_42"/>
		<limit lower="0" upper="0.005"/>
	</joint>
	<link name="link_33">
		<visual name="button-34">
			<origin xyz="-0.050816255718397985 -0.2735397896986227 -0.04700700000000024"/>
			<geometry>
				<mesh filename="textured_objs/original-22.obj"/>
			</geometry>
		</visual>
		<visual name="button-34">
			<origin xyz="-0.050816255718397985 -0.2735397896986227 -0.04700700000000024"/>
			<geometry>
				<mesh filename="textured_objs/original-64.obj"/>
			</geometry>
		</visual>
		<collision>
			<origin xyz="-0.050816255718397985 -0.2735397896986227 -0.04700700000000024"/>
			<geometry>
				<mesh filename="textured_objs/original-22.obj"/>
			</geometry>
		</collision>
		<collision>
			<origin xyz="-0.050816255718397985 -0.2735397896986227 -0.04700700000000024"/>
			<geometry>
				<mesh filename="textured_objs/original-64.obj"/>
			</geometry>
		</collision>
	</link>
	<joint name="joint_33" type="prismatic">
		<origin xyz="0.050816255718397985 0.2735397896986227 0.04700700000000024"/>
		<axis xyz="0 0 -1"/>
		<child link="link_33"/>
		<parent link="link_42"/>
		<limit lower="0" upper="0.005"/>
	</joint>
	<link name="link_34">
		<visual name="button-35">
			<origin xyz="-0.050816255718397985 -0.2735397896986227 -0.04700700000000024"/>
			<geometry>
				<mesh filename="textured_objs/original-31.obj"/>
			</geometry>
		</visual>
		<visual name="button-35">
			<origin xyz="-0.050816255718397985 -0.2735397896986227 -0.04700700000000024"/>
			<geometry>
				<mesh filename="textured_objs/original-73.obj"/>
			</geometry>
		</visual>
		<collision>
			<origin xyz="-0.050816255718397985 -0.2735397896986227 -0.04700700000000024"/>
			<geometry>
				<mesh filename="textured_objs/original-31.obj"/>
			</geometry>
		</collision>
		<collision>
			<origin xyz="-0.050816255718397985 -0.2735397896986227 -0.04700700000000024"/>
			<geometry>
				<mesh filename="textured_objs/original-73.obj"/>
			</geometry>
		</collision>
	</link>
	<joint name="joint_34" type="prismatic">
		<origin xyz="0.050816255718397985 0.2735397896986227 0.04700700000000024"/>
		<axis xyz="0 0 -1"/>
		<child link="link_34"/>
		<parent link="link_42"/>
		<limit lower="0" upper="0.005"/>
	</joint>
	<link name="link_35">
		<visual name="button-36">
			<origin xyz="-0.050816255718397985 -0.2735397896986227 -0.04700700000000024"/>
			<geometry>
				<mesh filename="textured_objs/original-16.obj"/>
			</geometry>
		</visual>
		<visual name="button-36">
			<origin xyz="-0.050816255718397985 -0.2735397896986227 -0.04700700000000024"/>
			<geometry>
				<mesh filename="textured_objs/original-58.obj"/>
			</geometry>
		</visual>
		<collision>
			<origin xyz="-0.050816255718397985 -0.2735397896986227 -0.04700700000000024"/>
			<geometry>
				<mesh filename="textured_objs/original-16.obj"/>
			</geometry>
		</collision>
		<collision>
			<origin xyz="-0.050816255718397985 -0.2735397896986227 -0.04700700000000024"/>
			<geometry>
				<mesh filename="textured_objs/original-58.obj"/>
			</geometry>
		</collision>
	</link>
	<joint name="joint_35" type="prismatic">
		<origin xyz="0.050816255718397985 0.2735397896986227 0.04700700000000024"/>
		<axis xyz="0 0 -1"/>
		<child link="link_35"/>
		<parent link="link_42"/>
		<limit lower="0" upper="0.005"/>
	</joint>
	<link name="link_36">
		<visual name="button-37">
			<origin xyz="-0.050816255718397985 -0.2735397896986227 -0.04700700000000024"/>
			<geometry>
				<mesh filename="textured_objs/original-17.obj"/>
			</geometry>
		</visual>
		<visual name="button-37">
			<origin xyz="-0.050816255718397985 -0.2735397896986227 -0.04700700000000024"/>
			<geometry>
				<mesh filename="textured_objs/original-59.obj"/>
			</geometry>
		</visual>
		<collision>
			<origin xyz="-0.050816255718397985 -0.2735397896986227 -0.04700700000000024"/>
			<geometry>
				<mesh filename="textured_objs/original-17.obj"/>
			</geometry>
		</collision>
		<collision>
			<origin xyz="-0.050816255718397985 -0.2735397896986227 -0.04700700000000024"/>
			<geometry>
				<mesh filename="textured_objs/original-59.obj"/>
			</geometry>
		</collision>
	</link>
	<joint name="joint_36" type="prismatic">
		<origin xyz="0.050816255718397985 0.2735397896986227 0.04700700000000024"/>
		<axis xyz="0 0 -1"/>
		<child link="link_36"/>
		<parent link="link_42"/>
		<limit lower="0" upper="0.005"/>
	</joint>
	<link name="link_37">
		<visual name="button-38">
			<origin xyz="-0.050816255718397985 -0.2735397896986227 -0.04700700000000024"/>
			<geometry>
				<mesh filename="textured_objs/original-11.obj"/>
			</geometry>
		</visual>
		<visual name="button-38">
			<origin xyz="-0.050816255718397985 -0.2735397896986227 -0.04700700000000024"/>
			<geometry>
				<mesh filename="textured_objs/original-53.obj"/>
			</geometry>
		</visual>
		<collision>
			<origin xyz="-0.050816255718397985 -0.2735397896986227 -0.04700700000000024"/>
			<geometry>
				<mesh filename="textured_objs/original-11.obj"/>
			</geometry>
		</collision>
		<collision>
			<origin xyz="-0.050816255718397985 -0.2735397896986227 -0.04700700000000024"/>
			<geometry>
				<mesh filename="textured_objs/original-53.obj"/>
			</geometry>
		</collision>
	</link>
	<joint name="joint_37" type="prismatic">
		<origin xyz="0.050816255718397985 0.2735397896986227 0.04700700000000024"/>
		<axis xyz="0 0 -1"/>
		<child link="link_37"/>
		<parent link="link_42"/>
		<limit lower="0" upper="0.005"/>
	</joint>
	<link name="link_38">
		<visual name="button-39">
			<origin xyz="-0.050816255718397985 -0.2735397896986227 -0.04700700000000024"/>
			<geometry>
				<mesh filename="textured_objs/original-26.obj"/>
			</geometry>
		</visual>
		<visual name="button-39">
			<origin xyz="-0.050816255718397985 -0.2735397896986227 -0.04700700000000024"/>
			<geometry>
				<mesh filename="textured_objs/original-68.obj"/>
			</geometry>
		</visual>
		<collision>
			<origin xyz="-0.050816255718397985 -0.2735397896986227 -0.04700700000000024"/>
			<geometry>
				<mesh filename="textured_objs/original-26.obj"/>
			</geometry>
		</collision>
		<collision>
			<origin xyz="-0.050816255718397985 -0.2735397896986227 -0.04700700000000024"/>
			<geometry>
				<mesh filename="textured_objs/original-68.obj"/>
			</geometry>
		</collision>
	</link>
	<joint name="joint_38" type="prismatic">
		<origin xyz="0.050816255718397985 0.2735397896986227 0.04700700000000024"/>
		<axis xyz="0 0 -1"/>
		<child link="link_38"/>
		<parent link="link_42"/>
		<limit lower="0" upper="0.005"/>
	</joint>
	<link name="link_39">
		<visual name="button-40">
			<origin xyz="-0.050816255718397985 -0.2735397896986227 -0.04700700000000024"/>
			<geometry>
				<mesh filename="textured_objs/original-41.obj"/>
			</geometry>
		</visual>
		<visual name="button-40">
			<origin xyz="-0.050816255718397985 -0.2735397896986227 -0.04700700000000024"/>
			<geometry>
				<mesh filename="textured_objs/original-82.obj"/>
			</geometry>
		</visual>
		<collision>
			<origin xyz="-0.050816255718397985 -0.2735397896986227 -0.04700700000000024"/>
			<geometry>
				<mesh filename="textured_objs/original-41.obj"/>
			</geometry>
		</collision>
		<collision>
			<origin xyz="-0.050816255718397985 -0.2735397896986227 -0.04700700000000024"/>
			<geometry>
				<mesh filename="textured_objs/original-82.obj"/>
			</geometry>
		</collision>
	</link>
	<joint name="joint_39" type="prismatic">
		<origin xyz="0.050816255718397985 0.2735397896986227 0.04700700000000024"/>
		<axis xyz="0 0 -1"/>
		<child link="link_39"/>
		<parent link="link_42"/>
		<limit lower="0" upper="0.005"/>
	</joint>
	<link name="link_40">
		<visual name="button-41">
			<origin xyz="-0.050816255718397985 -0.2735397896986227 -0.04700700000000024"/>
			<geometry>
				<mesh filename="textured_objs/original-35.obj"/>
			</geometry>
		</visual>
		<visual name="button-41">
			<origin xyz="-0.050816255718397985 -0.2735397896986227 -0.04700700000000024"/>
			<geometry>
				<mesh filename="textured_objs/original-77.obj"/>
			</geometry>
		</visual>
		<collision>
			<origin xyz="-0.050816255718397985 -0.2735397896986227 -0.04700700000000024"/>
			<geometry>
				<mesh filename="textured_objs/original-35.obj"/>
			</geometry>
		</collision>
		<collision>
			<origin xyz="-0.050816255718397985 -0.2735397896986227 -0.04700700000000024"/>
			<geometry>
				<mesh filename="textured_objs/original-77.obj"/>
			</geometry>
		</collision>
	</link>
	<joint name="joint_40" type="prismatic">
		<origin xyz="0.050816255718397985 0.2735397896986227 0.04700700000000024"/>
		<axis xyz="0 0 -1"/>
		<child link="link_40"/>
		<parent link="link_42"/>
		<limit lower="0" upper="0.005"/>
	</joint>
	<link name="link_41">
		<visual name="button-42">
			<origin xyz="-0.050816255718397985 -0.2735397896986227 -0.04700700000000024"/>
			<geometry>
				<mesh filename="textured_objs/original-14.obj"/>
			</geometry>
		</visual>
		<visual name="button-42">
			<origin xyz="-0.050816255718397985 -0.2735397896986227 -0.04700700000000024"/>
			<geometry>
				<mesh filename="textured_objs/original-56.obj"/>
			</geometry>
		</visual>
		<collision>
			<origin xyz="-0.050816255718397985 -0.2735397896986227 -0.04700700000000024"/>
			<geometry>
				<mesh filename="textured_objs/original-14.obj"/>
			</geometry>
		</collision>
		<collision>
			<origin xyz="-0.050816255718397985 -0.2735397896986227 -0.04700700000000024"/>
			<geometry>
				<mesh filename="textured_objs/original-56.obj"/>
			</geometry>
		</collision>
	</link>
	<joint name="joint_41" type="prismatic">
		<origin xyz="0.050816255718397985 0.2735397896986227 0.04700700000000024"/>
		<axis xyz="0 0 -1"/>
		<child link="link_41"/>
		<parent link="link_42"/>
		<limit lower="0" upper="0.005"/>
	</joint>
	<link name="link_42">
		<visual name="base_body-43">
			<origin xyz="0 0 0"/>
			<geometry>
				<mesh filename="textured_objs/original-86.obj"/>
			</geometry>
		</visual>
		<visual name="base_body-43">
			<origin xyz="0 0 0"/>
			<geometry>
				<mesh filename="textured_objs/original-87.obj"/>
			</geometry>
		</visual>
		<visual name="base_body-43">
			<origin xyz="0 0 0"/>
			<geometry>
				<mesh filename="textured_objs/original-1.obj"/>
			</geometry>
		</visual>
		<collision>
			<origin xyz="0 0 0"/>
			<geometry>
				<mesh filename="textured_objs/original-86.obj"/>
			</geometry>
		</collision>
		<collision>
			<origin xyz="0 0 0"/>
			<geometry>
				<mesh filename="textured_objs/original-87.obj"/>
			</geometry>
		</collision>
		<collision>
			<origin xyz="0 0 0"/>
			<geometry>
				<mesh filename="textured_objs/original-1.obj"/>
			</geometry>
		</collision>
	</link>
	<joint name="joint_42" type="fixed">
		<origin rpy="1.570796326794897 0 -1.570796326794897" xyz="0 0 0"/>
		<child link="link_42"/>
		<parent link="base"/>
	</joint>
</robot>
